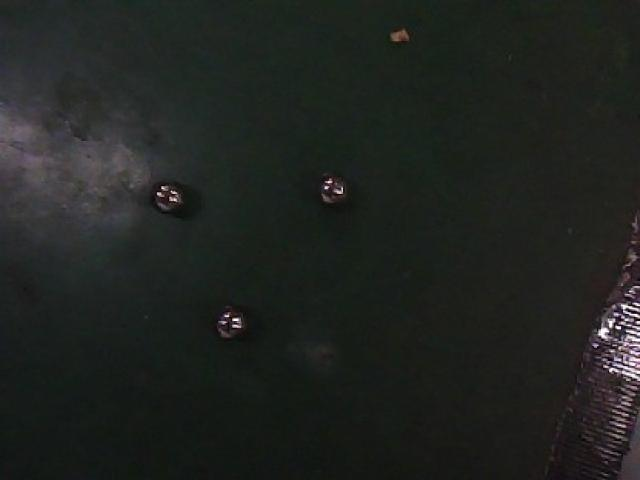steel-ball: (132, 158, 195, 225), (203, 291, 251, 346), (308, 165, 355, 220)
